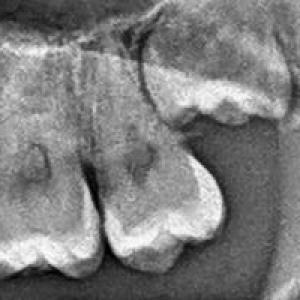tooth: (87, 33, 228, 274), (0, 28, 103, 281), (142, 0, 295, 131)
